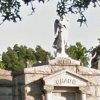Statue: (41, 15, 83, 73)
